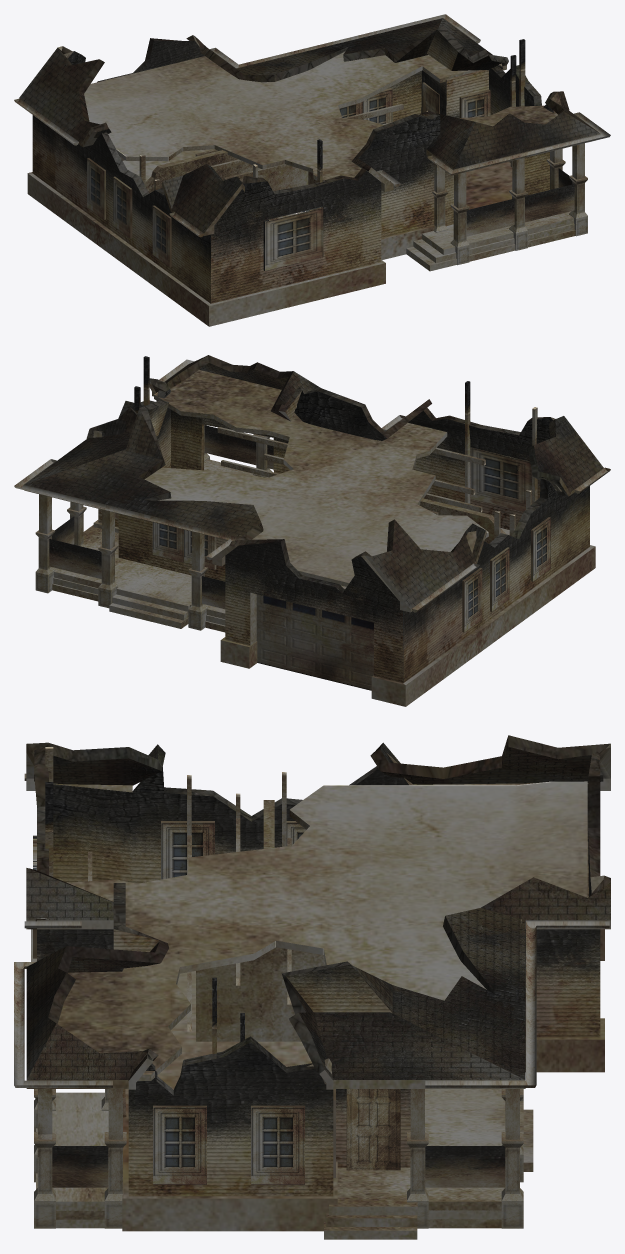
The model's file is collapsed_house.dae.
The picture shows the model from 3 angles, top to bottom: view 1: azimuth 30°, elevation 25°; view 2: azimuth 150°, elevation 25°; view 3: azimuth 270°, elevation 25°; orthographic projection. The views are drawn at different scales.
Parts seen in each view (by area): view 1: Destroyed_House; view 2: Destroyed_House; view 3: Destroyed_House.
Part boxes in pixels (x1,y1,x2,y2): Destroyed_House: (14,14,610,326); Destroyed_House: (14,355,610,706); Destroyed_House: (14,735,610,1239).
Size of the model in its own units: 424 by 339 by 152.
1 material, 1 textured.
